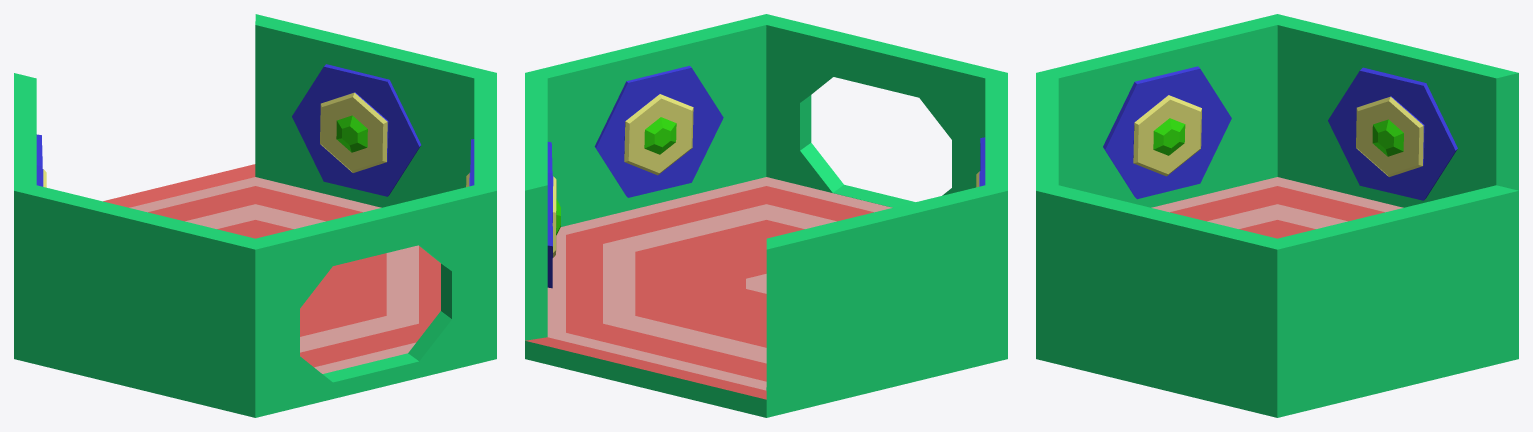
The model's file is oda.fbx.
3 renders of one model, left to right at view 1: azimuth 30°, elevation 25°; view 2: azimuth 150°, elevation 25°; view 3: azimuth 270°, elevation 25°, orthographic.
Parts seen in each view (by area): view 1: Circle; view 2: Circle; view 3: Circle.
Part boxes in pixels (left/top/right/bottom): Circle: left=14, top=14, right=496, bottom=417; Circle: left=525, top=14, right=1007, bottom=417; Circle: left=1036, top=14, right=1518, bottom=417.
Bounding box in the file's own units: 8624 × 2872 × 7469.
